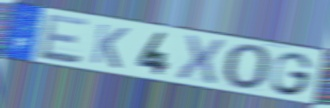4: (135, 31, 170, 77)
E: (37, 12, 90, 65)
G: (270, 50, 316, 97)
K: (88, 21, 131, 71)
O: (222, 43, 275, 93)
X: (174, 33, 227, 86)
